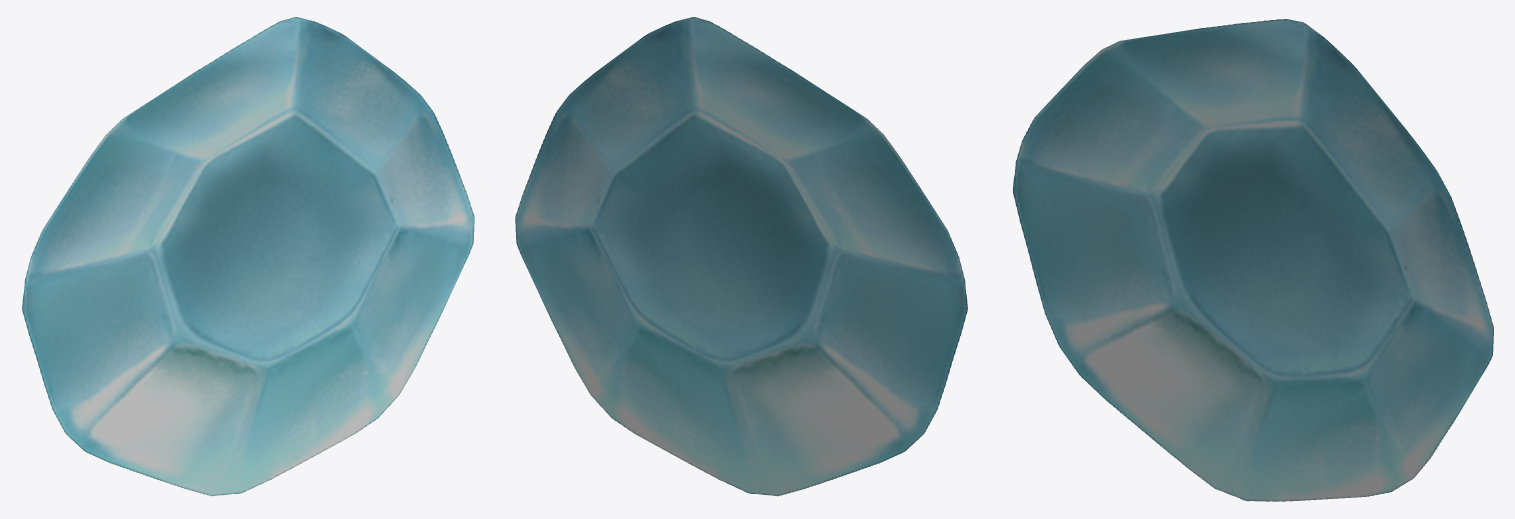
The model's file is crystal.fbx.
3 renders of one model, left to right at view 1: azimuth 30°, elevation 25°; view 2: azimuth 150°, elevation 25°; view 3: azimuth 330°, elevation 25°, orthographic. The views are drawn at different scales.
Parts seen in each view (by area): view 1: crystal; view 2: crystal; view 3: crystal.
Part boxes in pixels (left/top/right/bottom): crystal: left=22, top=17, right=474, bottom=496; crystal: left=515, top=17, right=967, bottom=496; crystal: left=1012, top=19, right=1493, bottom=501.
Bounding box in the file's own units: 5.31 × 5.18 × 1.9e-07.
